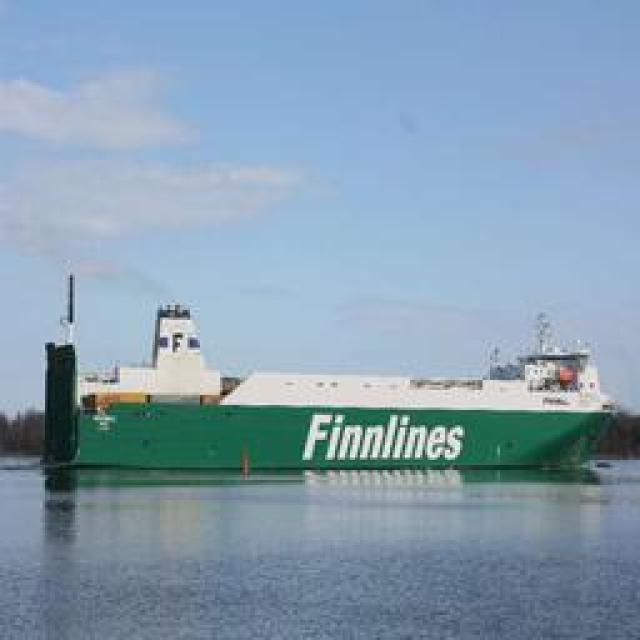ship: (45, 290, 617, 478)
